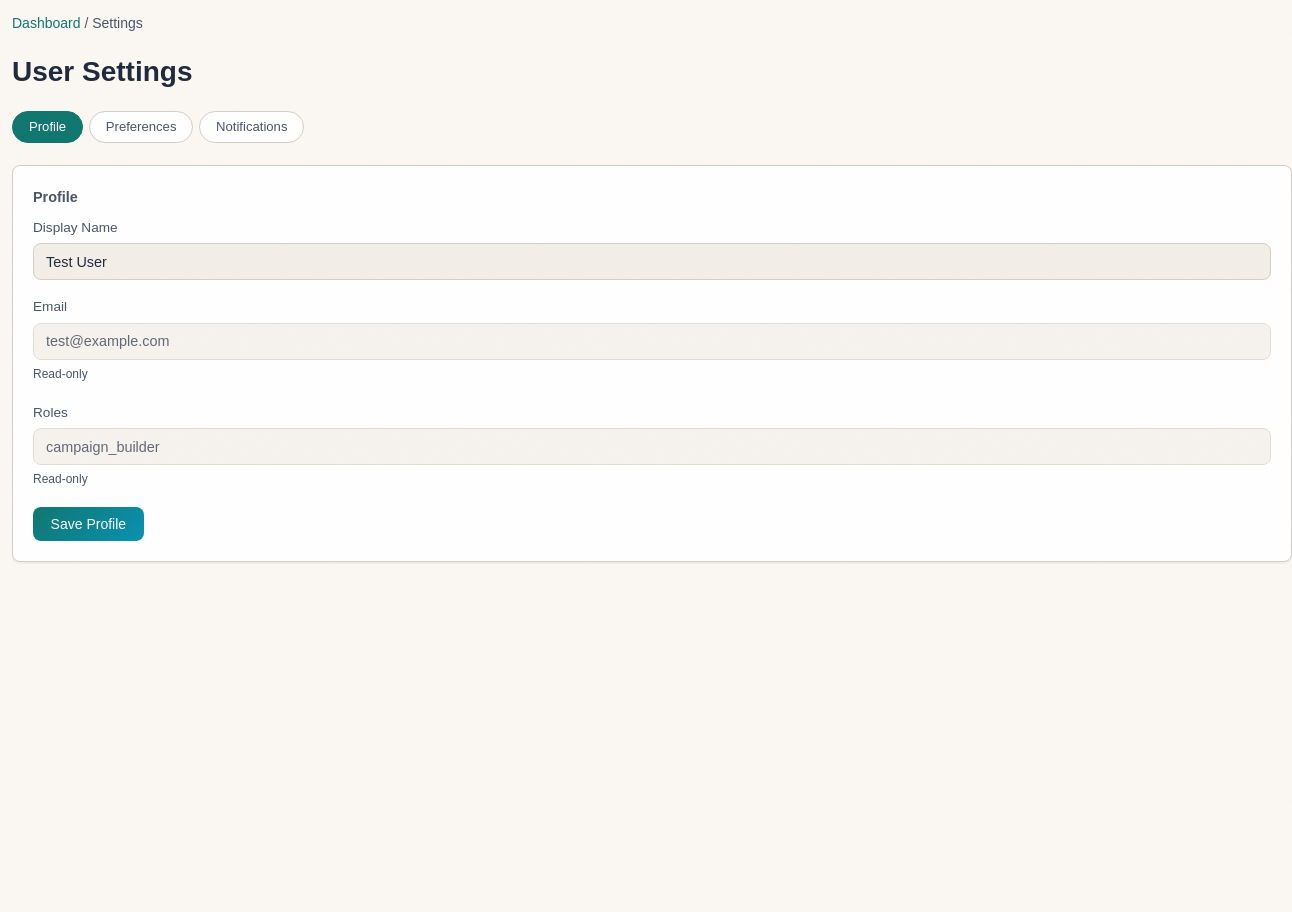
Test: UserSettings – Profile tab › shows error message on save failure
The width and height of the screenshot is (1292, 912).
Expected: the element with test id "tab-profile" is shown, x1=33 y1=186 x2=1271 y2=541
Click the button "Save Profile": (88, 524) x1=33 y1=507 x2=144 y2=541
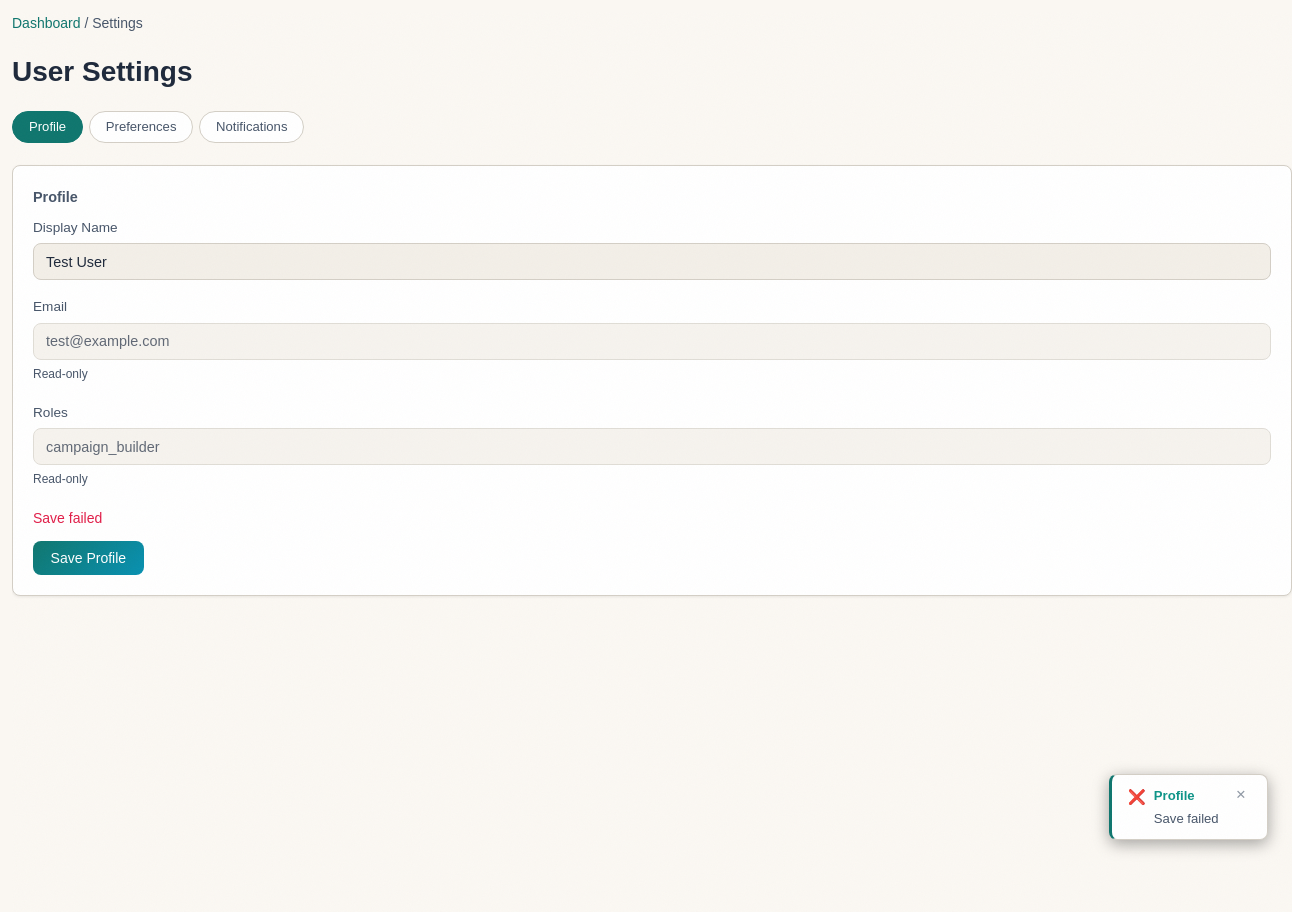
Expected: the text with test id "profile-save-error" reads "Save failed", x1=33 y1=510 x2=102 y2=526
